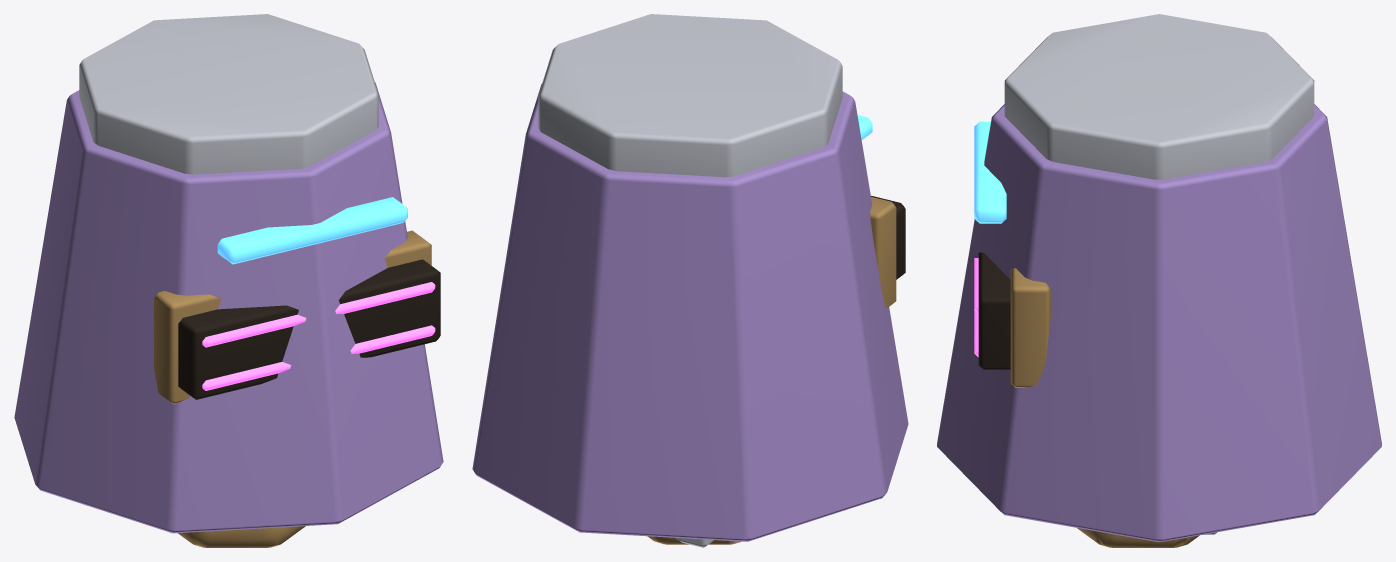
Rendered from silksteel_head_whisper.glb.
The picture shows the model from 3 angles, left to right: view 1: azimuth 30°, elevation 25°; view 2: azimuth 150°, elevation 25°; view 3: azimuth 270°, elevation 25°; orthographic projection.
Parts seen in each view (by area): view 1: silksteel_head_whisper; view 2: silksteel_head_whisper; view 3: silksteel_head_whisper.
Boxes of the visible parts, left/top/right/bottom form: silksteel_head_whisper: left=14, top=14, right=443, bottom=547; silksteel_head_whisper: left=472, top=14, right=908, bottom=547; silksteel_head_whisper: left=937, top=14, right=1381, bottom=547.
Size of the model in its own units: 0.5529 by 0.61 by 0.5529.
Materials: 1 (1 with a texture image).
